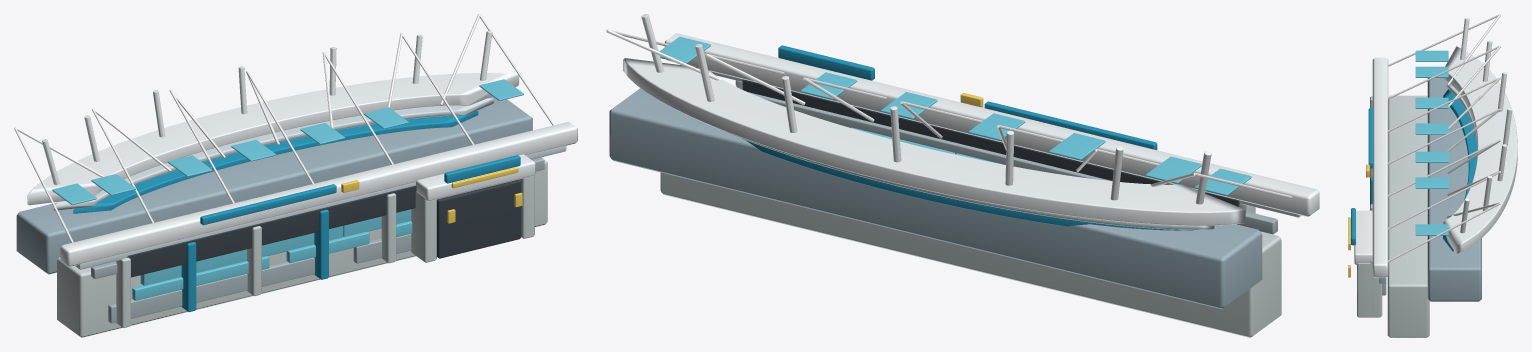
Rendered from DailyChallengeStadium.fbx.
The picture shows the model from 3 angles, left to right: view 1: azimuth 30°, elevation 25°; view 2: azimuth 150°, elevation 25°; view 3: azimuth 270°, elevation 25°; orthographic projection. The views are drawn at different scales.
Visible parts, largest first — view 1: StadiumUpperBowl Rear Mass, StadiumRoof Curved Canopy, StadiumRoof Front Lip, StadiumConcrete Front Concourse, StadiumTunnel Dark Interior, StadiumTunnel Entrance Mouth, StadiumAccent Inner Fascia, StadiumRoofShade Underside Arc, StadiumConcreteShade Lower Recess, StadiumGlass Front Ribbon, StadiumRoofShade Front Underside, StadiumRoof Entrance Header (+22 smaller); view 2: StadiumUpperBowl Rear Mass, StadiumRoof Curved Canopy, StadiumConcrete Front Concourse, StadiumRoof Front Lip, StadiumTunnel Dark Interior, StadiumConcreteShade Mid Shadow Band, StadiumAccent Inner Fascia, StadiumRoofShade Underside Arc, StadiumAccent Front Scoreboard Ribbon, StadiumAccent Entrance Sign, StadiumGlass Skylight 3, StadiumGlass Skylight 2 (+5 smaller); view 3: StadiumConcrete Front Concourse, StadiumRoof Curved Canopy, StadiumUpperBowl Rear Mass, StadiumRoof Front Lip, StadiumConcrete Entrance Right Pier, StadiumAccent Inner Fascia, StadiumRoof Entrance Header, StadiumGlass Skylight 5, StadiumGlass Skylight 6, StadiumGlass Skylight 1, StadiumGlass Skylight 4, StadiumGlass Skylight 7 (+25 smaller).
Boxes of the visible parts, x1,y1,x2,y2 form: StadiumUpperBowl Rear Mass: [16, 96, 532, 274]; StadiumRoof Curved Canopy: [27, 73, 519, 205]; StadiumRoof Front Lip: [60, 121, 577, 266]; StadiumConcrete Front Concourse: [57, 160, 547, 337]; StadiumTunnel Dark Interior: [127, 185, 416, 277]; StadiumTunnel Entrance Mouth: [437, 179, 521, 258]; StadiumAccent Inner Fascia: [73, 111, 478, 213]; StadiumRoofShade Underside Arc: [52, 98, 494, 210]; StadiumConcreteShade Lower Recess: [108, 257, 314, 323]; StadiumGlass Front Ribbon: [140, 226, 343, 285]; StadiumRoofShade Front Underside: [75, 145, 566, 269]; StadiumRoof Entrance Header: [416, 154, 535, 201]; StadiumUpperBowl Rear Mass: [609, 88, 1262, 309]; StadiumRoof Curved Canopy: [623, 58, 1245, 225]; StadiumConcrete Front Concourse: [660, 172, 1281, 337]; StadiumRoof Front Lip: [664, 33, 1319, 216]; StadiumTunnel Dark Interior: [742, 79, 1239, 206]; StadiumConcreteShade Mid Shadow Band: [748, 92, 1277, 234]; StadiumAccent Inner Fascia: [744, 139, 1193, 230]; StadiumRoofShade Underside Arc: [705, 123, 1214, 229]; StadiumAccent Front Scoreboard Ribbon: [984, 101, 1157, 150]; StadiumAccent Entrance Sign: [778, 45, 874, 80]; StadiumGlass Skylight 3: [1049, 133, 1105, 160]; StadiumGlass Skylight 2: [1145, 156, 1201, 183]; StadiumConcrete Front Concourse: [1387, 95, 1429, 337]; StadiumRoof Curved Canopy: [1443, 46, 1517, 254]; StadiumUpperBowl Rear Mass: [1427, 78, 1481, 301]; StadiumRoof Front Lip: [1372, 57, 1388, 277]; StadiumConcrete Entrance Right Pier: [1357, 263, 1380, 317]; StadiumAccent Inner Fascia: [1443, 89, 1477, 251]; StadiumRoof Entrance Header: [1354, 210, 1372, 265]; StadiumGlass Skylight 5: [1415, 151, 1448, 162]; StadiumGlass Skylight 6: [1415, 177, 1448, 188]; StadiumGlass Skylight 1: [1415, 50, 1448, 61]; StadiumGlass Skylight 4: [1415, 123, 1448, 134]; StadiumGlass Skylight 7: [1415, 224, 1448, 235].
Size of the model in its own units: 562 by 171 by 194.
